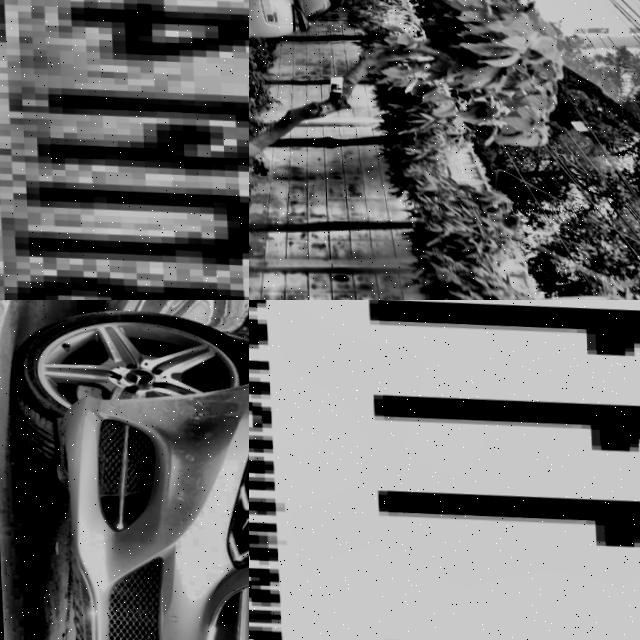license-plate: (249, 300, 640, 640), (0, 0, 249, 300)
